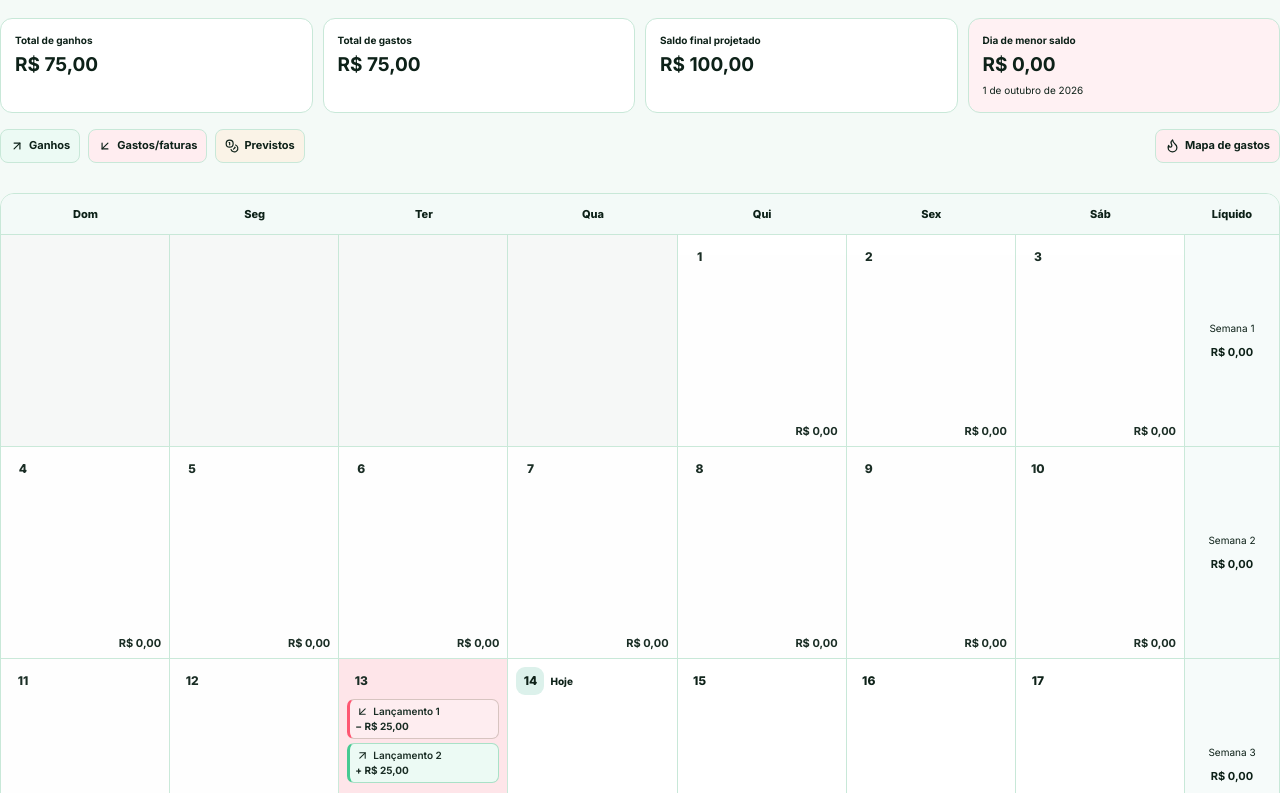
opens every day by its number and keeps empty cells clean
Click the button named "Abrir dia" at (192, 681), box [178,667,206,695]
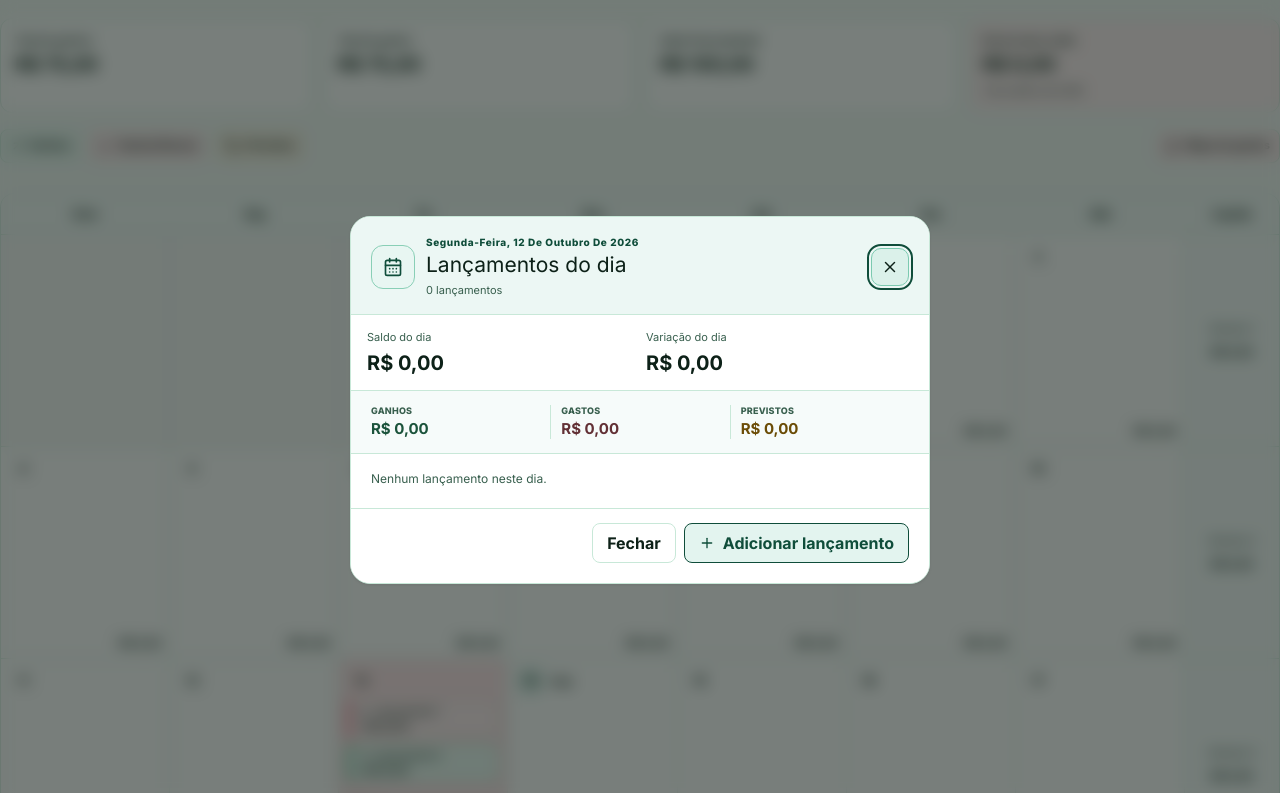
Now the text "Saldo do dia" is shown, box [367,330,431,344]
Now the text "Variação do dia" is shown, box [646,330,727,344]
